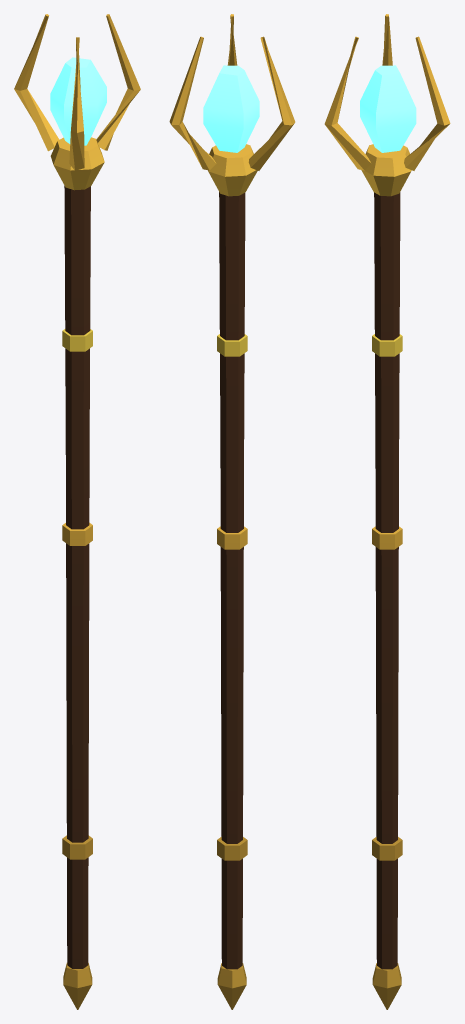
The model's file is Weapon_ArcaneStaff.fbx.
The picture shows the model from 3 angles, left to right: view 1: azimuth 30°, elevation 25°; view 2: azimuth 210°, elevation 25°; view 3: azimuth 330°, elevation 25°; orthographic projection.
Visible parts, largest first — view 1: ArcaneStaff; view 2: ArcaneStaff; view 3: ArcaneStaff.
Boxes of the visible parts, x1=… form: ArcaneStaff: x1=14, y1=14, x2=140, y2=1009; ArcaneStaff: x1=169, y1=14, x2=295, y2=1009; ArcaneStaff: x1=324, y1=14, x2=450, y2=1009.
Size of the model in its own units: 0.1596 by 1.56 by 0.1805.
